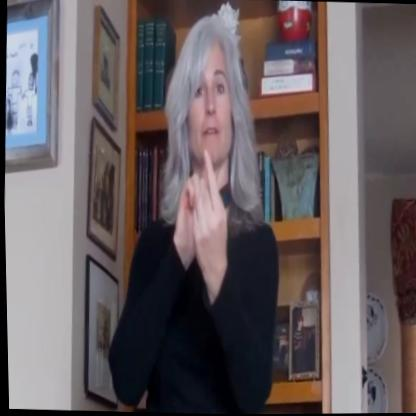NiceToMeetYou: (163, 133, 242, 319)
